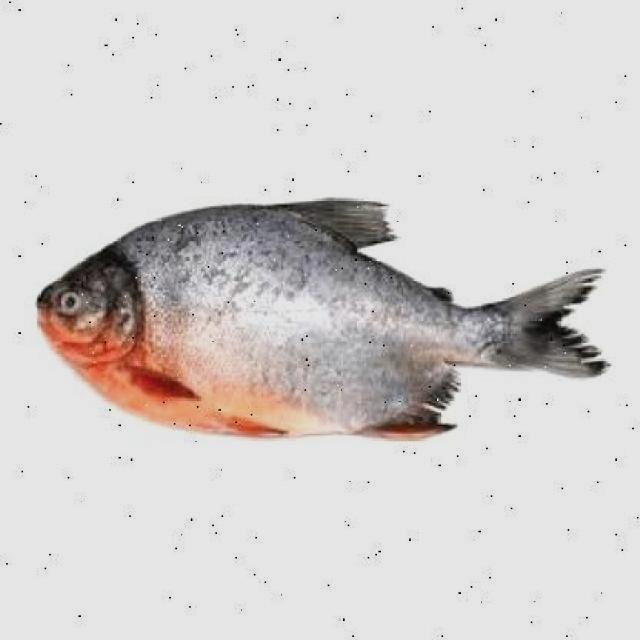ikan-pacu: (27, 200, 567, 437)
